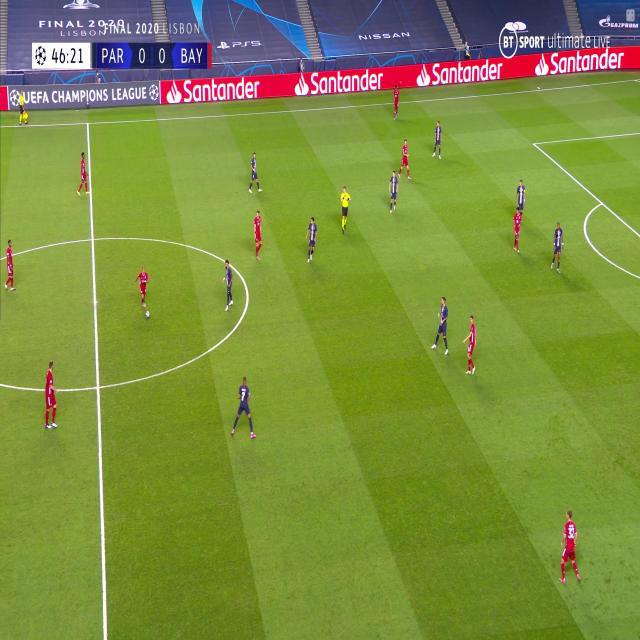ball: (146, 309, 150, 319)
player: (558, 508, 584, 588), (229, 375, 258, 441), (43, 359, 60, 431), (430, 295, 450, 354), (512, 177, 526, 255), (462, 314, 478, 376), (2, 238, 17, 292), (134, 265, 150, 314), (550, 221, 564, 273), (75, 150, 90, 197), (247, 150, 263, 193), (251, 209, 264, 261), (304, 215, 318, 262), (222, 258, 234, 312), (398, 137, 412, 180), (339, 184, 351, 234), (514, 180, 527, 224), (388, 169, 399, 214), (391, 81, 402, 121), (16, 90, 28, 126), (432, 120, 442, 158)
